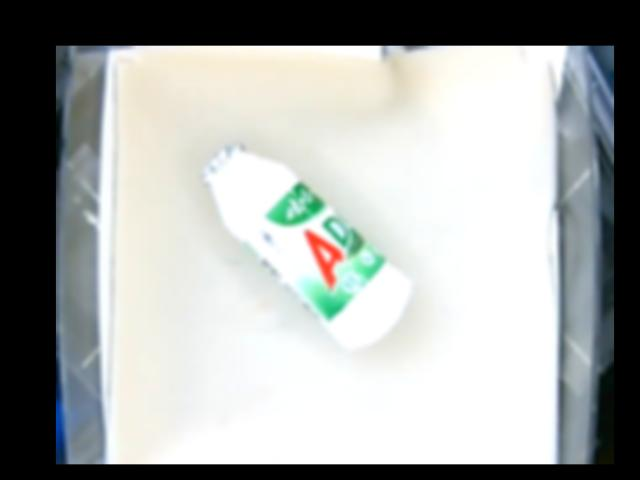Bottle: (203, 141, 410, 350)
